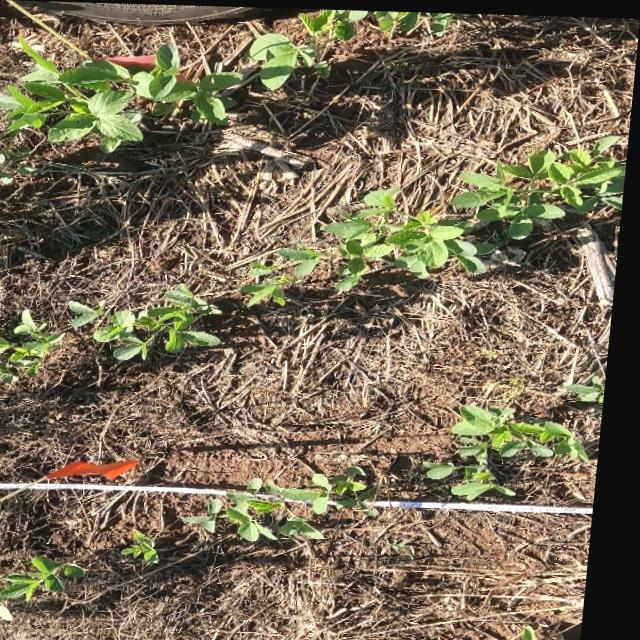soy_plant: (0, 7, 452, 152), (325, 132, 629, 288), (193, 464, 384, 539), (460, 403, 597, 497), (74, 284, 225, 359), (0, 556, 95, 625), (0, 310, 69, 382), (247, 244, 326, 304), (132, 528, 169, 562), (574, 372, 612, 403), (0, 151, 31, 181), (435, 460, 466, 476), (533, 622, 552, 640)
